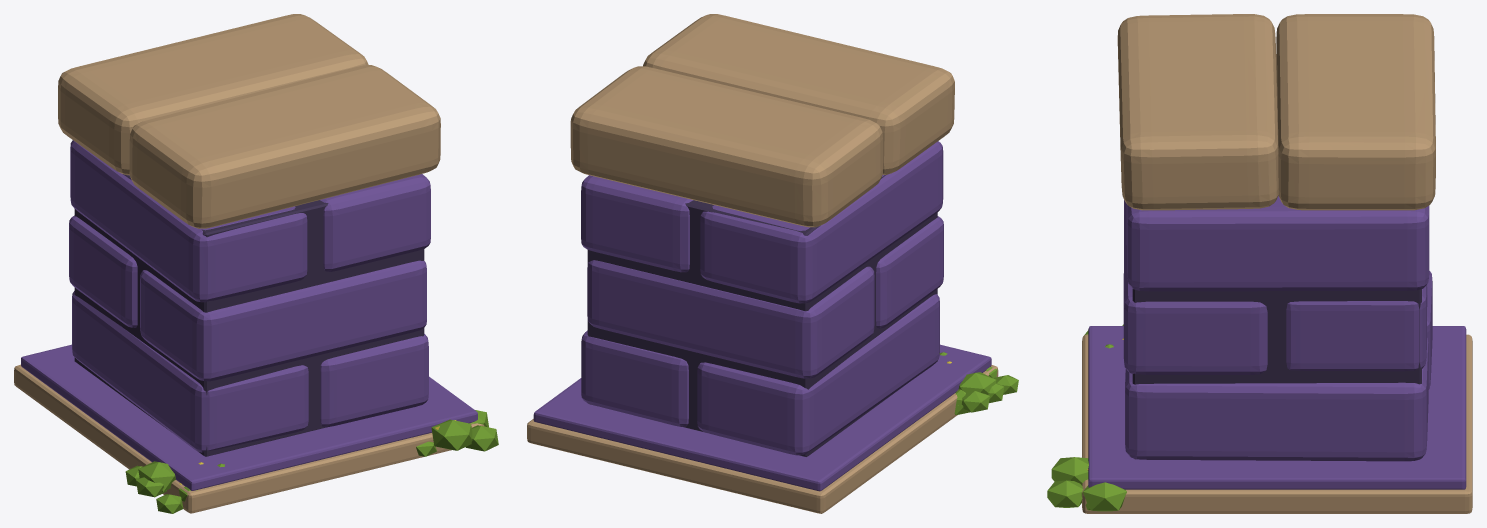
The model's file is WallBlock_1x1.glb.
3 renders of one model, left to right at view 1: azimuth 30°, elevation 25°; view 2: azimuth 150°, elevation 25°; view 3: azimuth 270°, elevation 25°, orthographic. The views are drawn at different scales.
Parts seen in each view (by area): view 1: WallBlock_1x1.001; view 2: WallBlock_1x1.001; view 3: WallBlock_1x1.001.
Boxes of the visible parts, box(x1,y1,x2,y2) form: WallBlock_1x1.001: box(14, 14, 498, 513); WallBlock_1x1.001: box(527, 14, 1018, 513); WallBlock_1x1.001: box(1047, 14, 1472, 513).
Bounding box in the file's own units: 1 × 0.9412 × 1.
